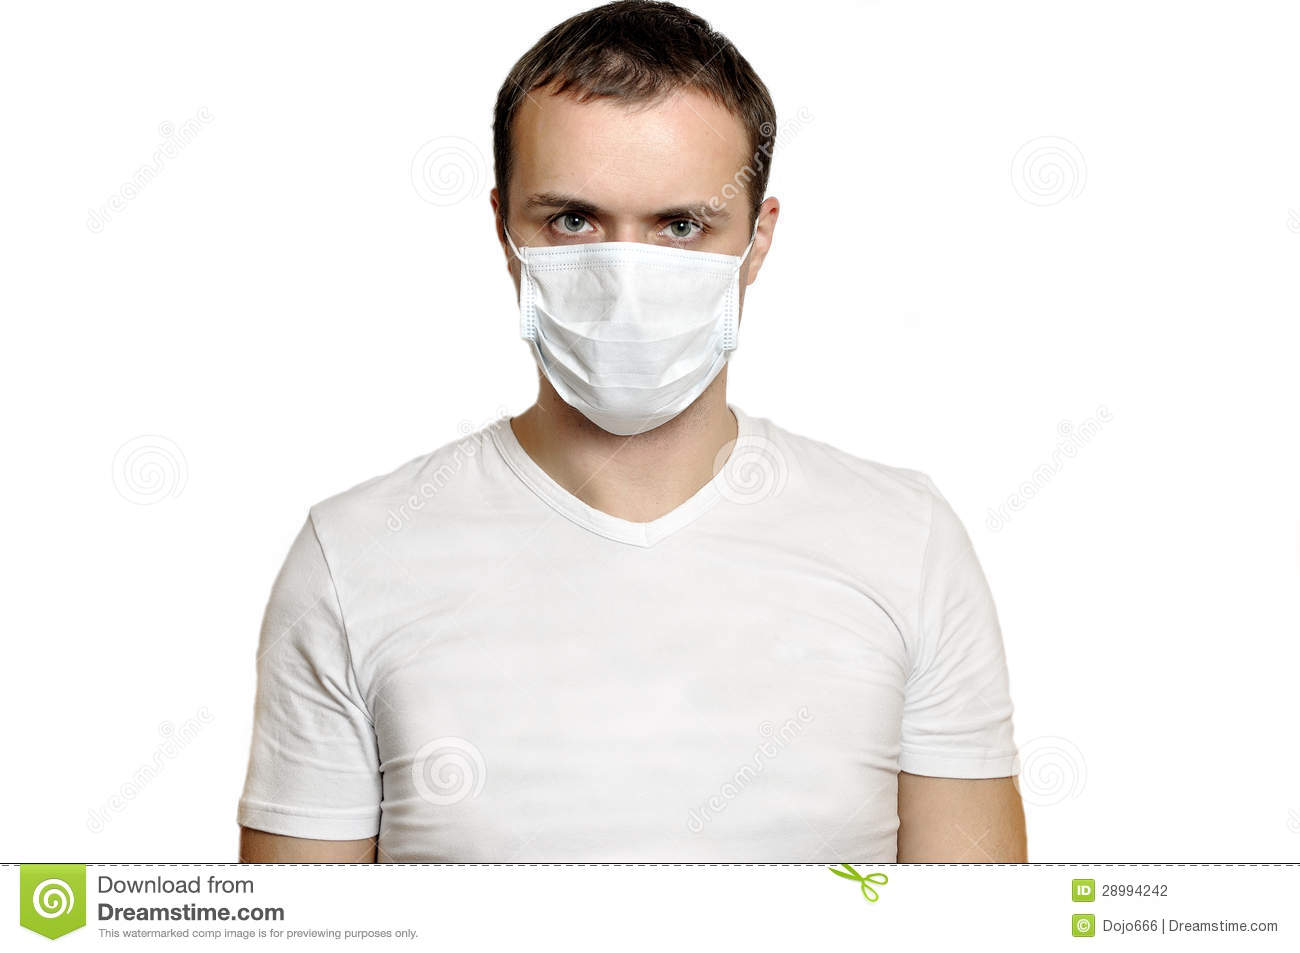mask: (515, 242, 742, 437)
